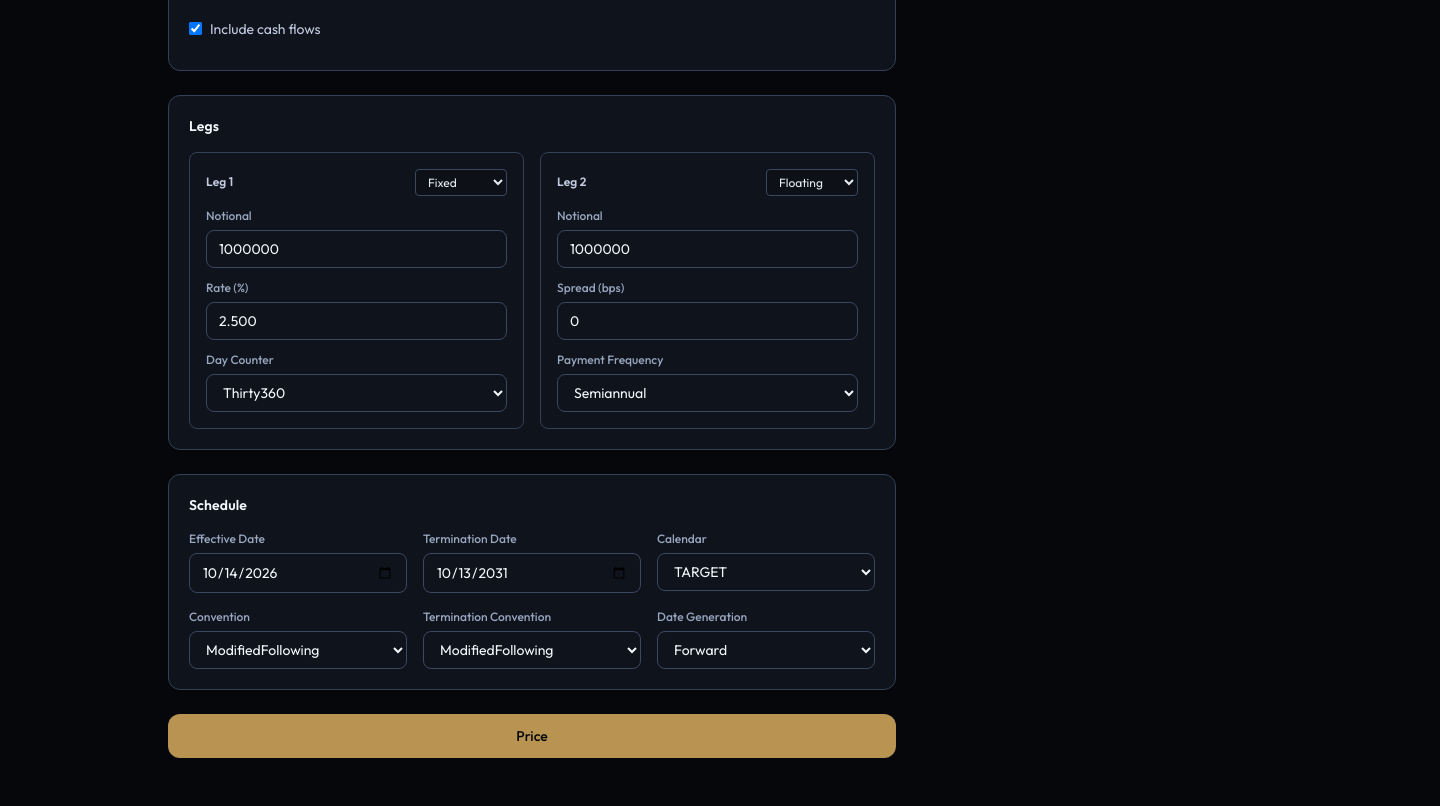
it: IrSwap component — C1–C4 (adapter cutover) › C7: empty flows render the empty state without crashing
(page scrolled)
What coordinates should you click on to do the following:
click the button "Price"
I would click on:
 (532, 736)
Its box is [168,714,896,758].
(page scrolled)
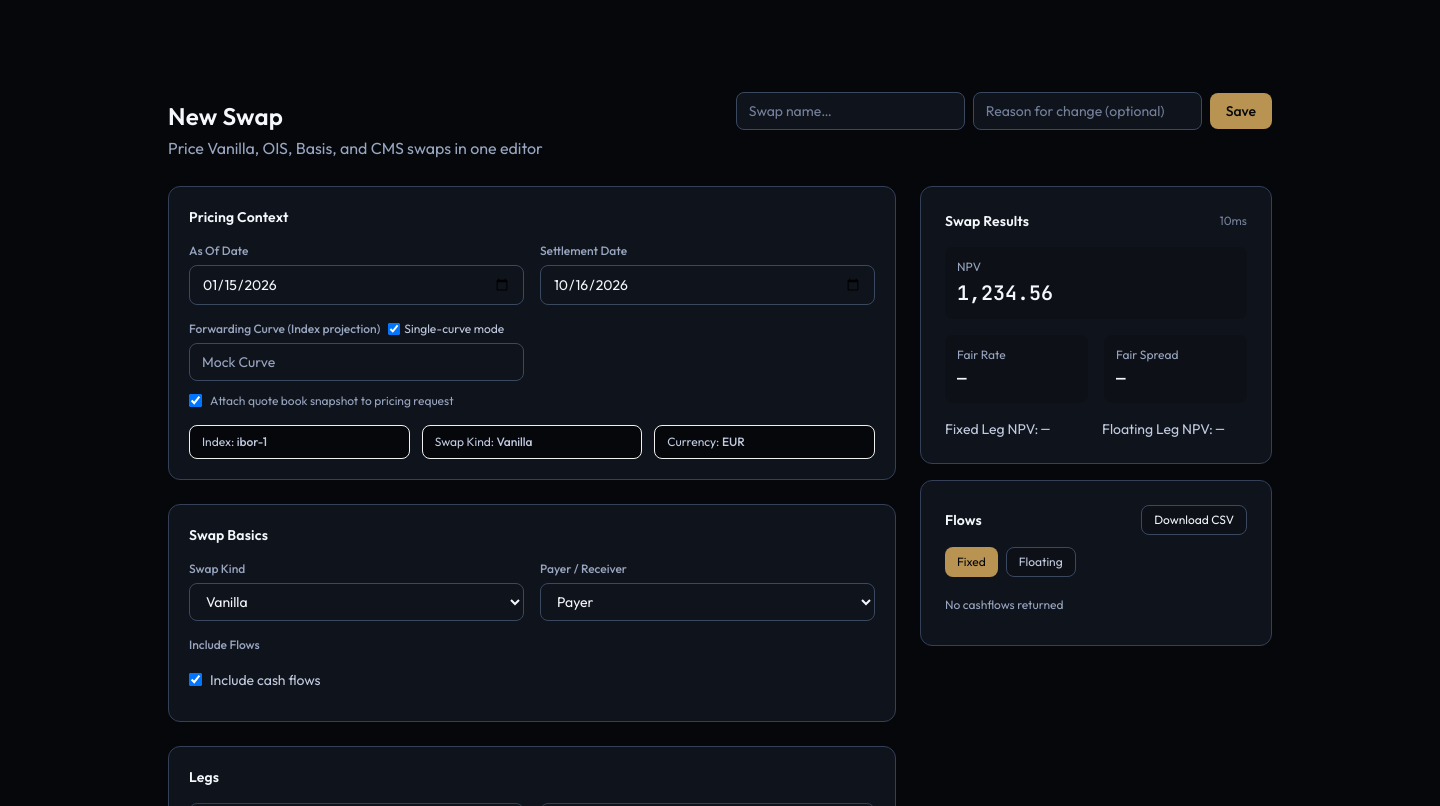
Now the heading "Flows" is shown, box [945,510,982,530]
Now the text "No cashflows returned" is shown, box [945,597,1064,612]
Now the heading "Swap Results" is shown, box [945,211,1029,231]
